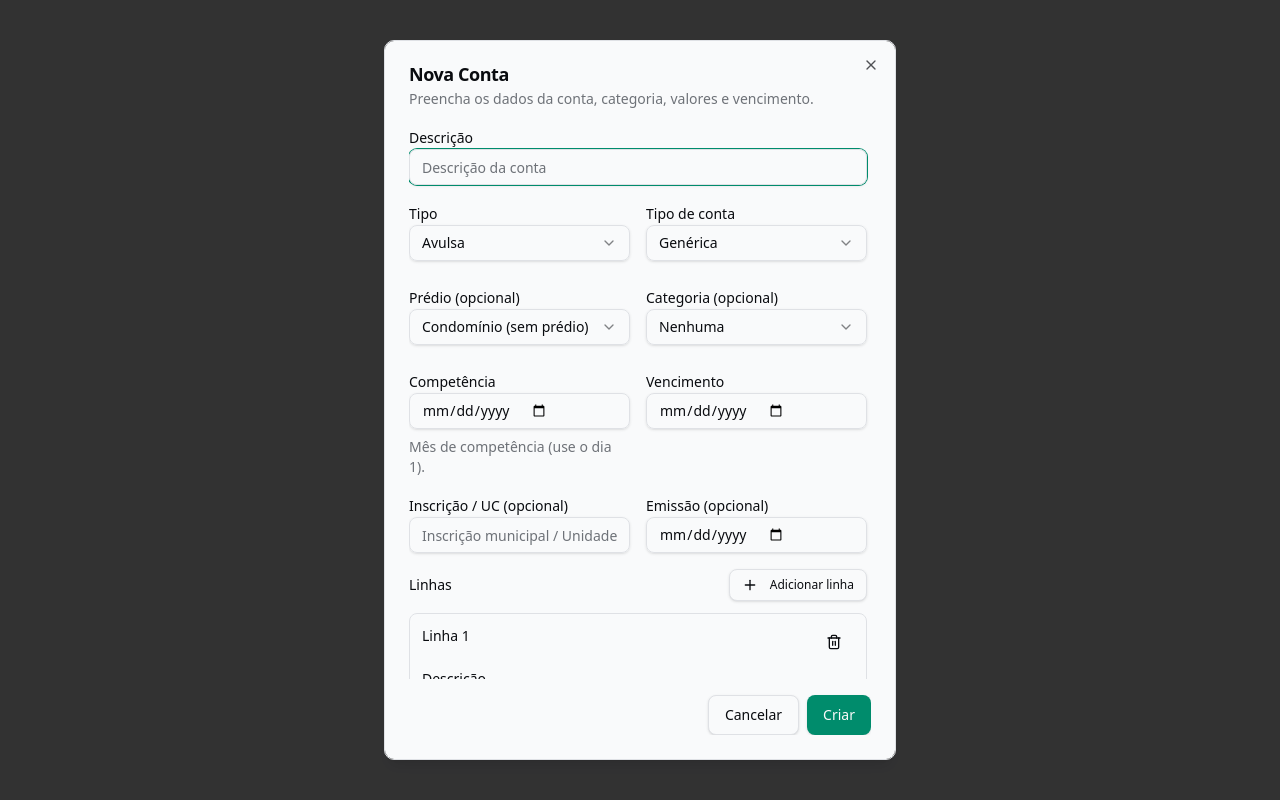
Test: BillFormModal › shows the billing_account select for recurring and hides it for one_time
Expected: the text "Conta recorrente" is not shown
Click the dropdown named "Tipo": {"x": 520, "y": 243} [409,225,630,261]
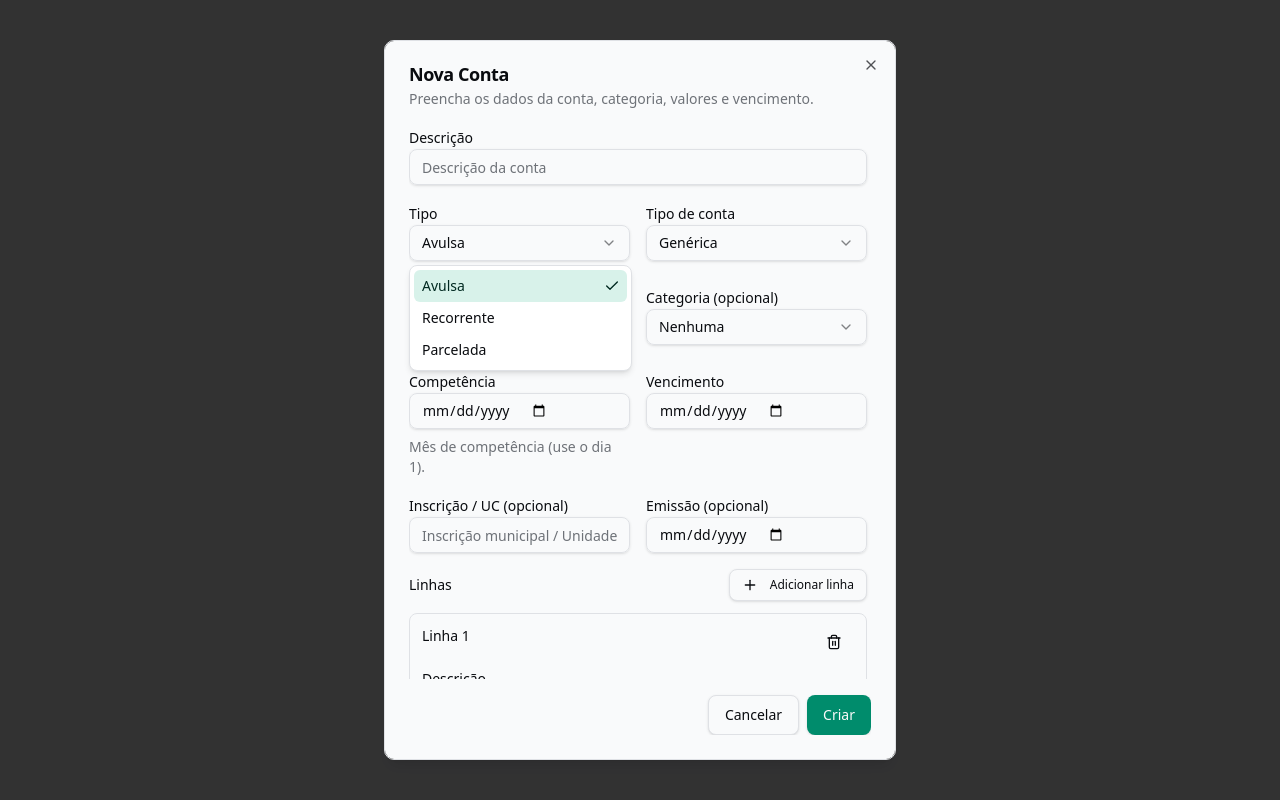
Click the option "Recorrente": {"x": 458, "y": 318} [422,308,495,327]
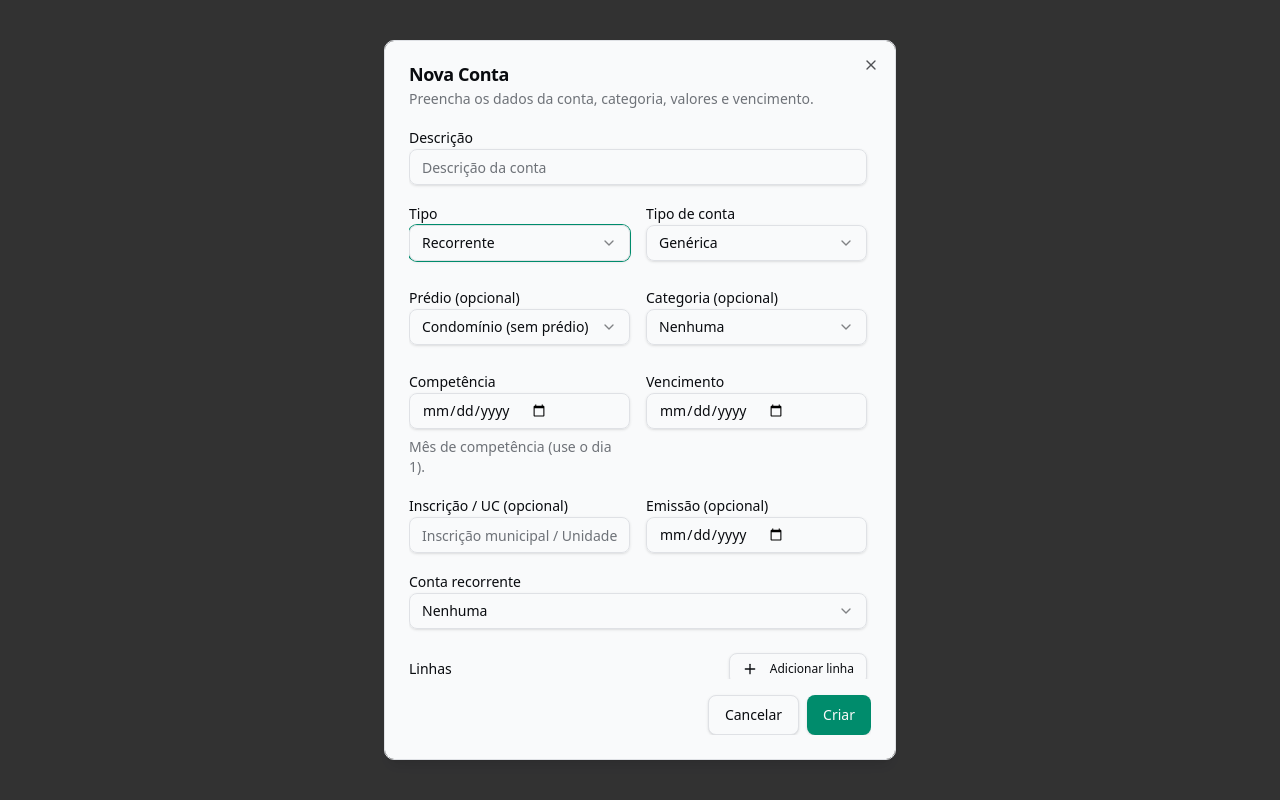
Expected: the text "Conta recorrente" is shown, [409,572,521,591]
